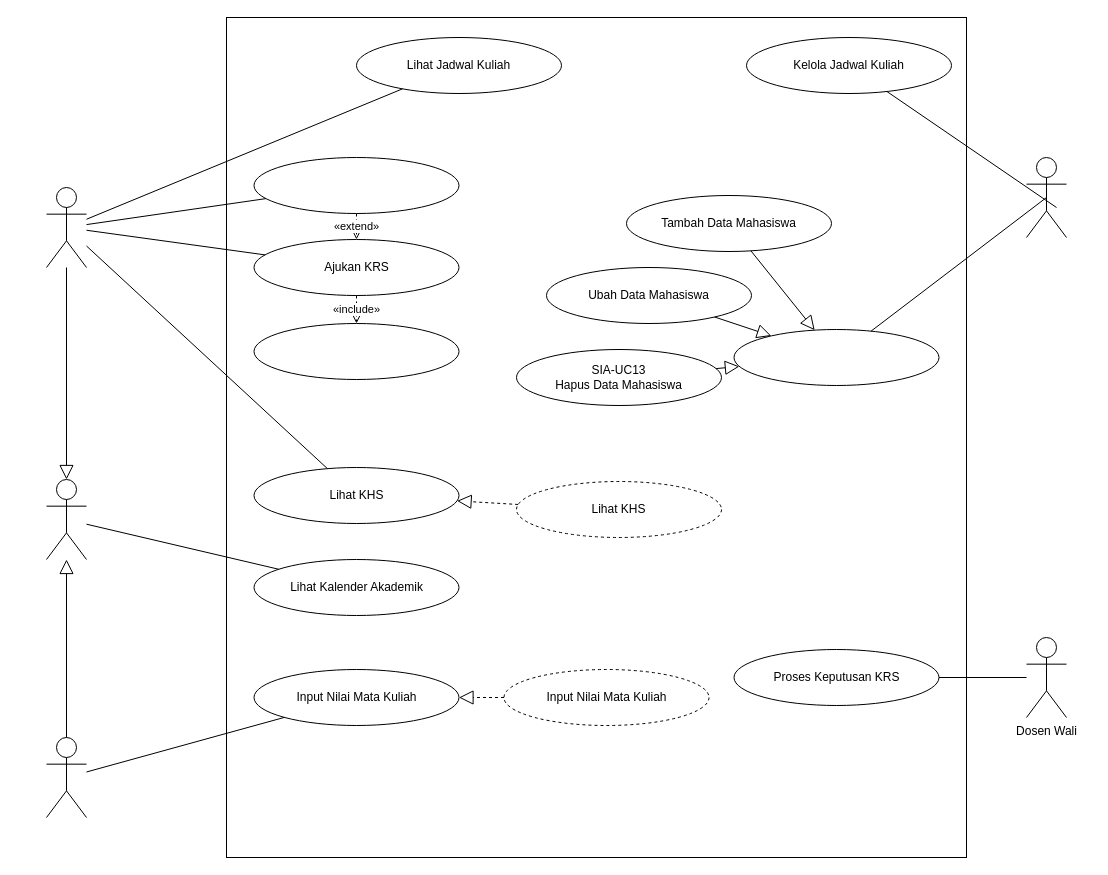
This 1108x875 diagram has some shape labels left out. The centre of each missing label's shape, as x and y in pixels:
"Admin akademik" belongs at (x=1046, y=197).
"Civitas Akademika" belongs at (x=66, y=519).
"Dosen" belongs at (x=66, y=777).
"Kelola Data Mahasiswa" belongs at (x=836, y=357).
"Mahasiswa" belongs at (x=66, y=227).
"Unduh Bukti Pengajuan KRS" belongs at (x=356, y=185).
"Validasi KRS" belongs at (x=356, y=351).
